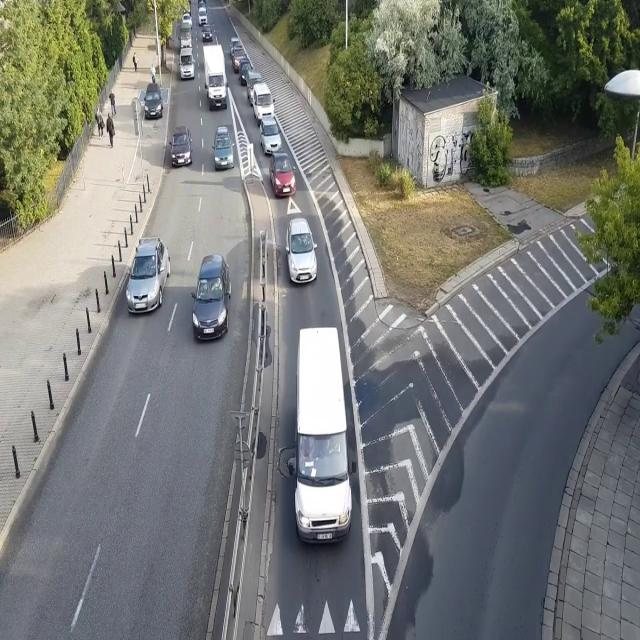car: (190, 254, 232, 342), (125, 236, 171, 316), (285, 218, 318, 284), (270, 152, 296, 197), (212, 125, 234, 170), (169, 126, 193, 166), (260, 118, 282, 154), (144, 82, 163, 119), (238, 58, 254, 86), (232, 45, 246, 73), (229, 36, 241, 56), (201, 24, 213, 43), (197, 7, 208, 26), (182, 13, 193, 30), (198, 1, 208, 12), (183, 4, 191, 16)
truck: (202, 45, 228, 110)
van: (288, 326, 357, 544), (252, 83, 276, 126), (247, 70, 264, 108), (179, 48, 195, 80), (178, 21, 193, 53)
